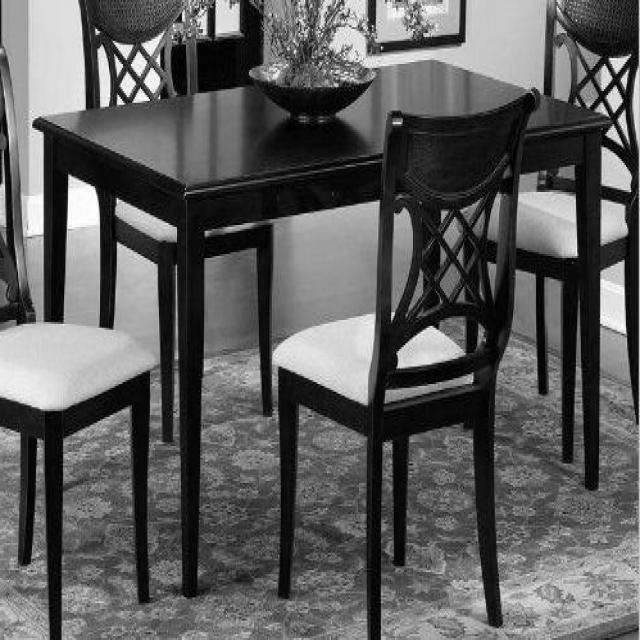chair: (274, 87, 540, 638), (1, 39, 159, 638), (78, 0, 275, 442), (456, 0, 639, 472)
table: (31, 55, 610, 595)
